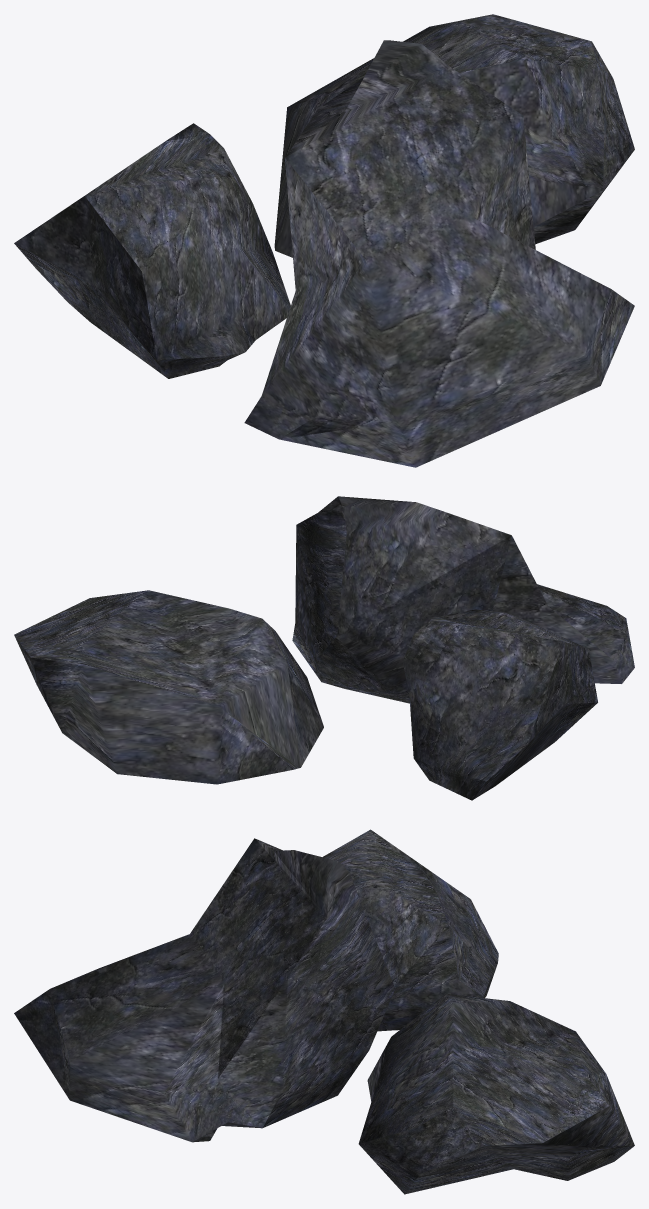
The model's file is pir_m_prp_vol_rockGroup_g.fbx.
3 renders of one model, top to bottom at view 1: azimuth 30°, elevation 25°; view 2: azimuth 150°, elevation 25°; view 3: azimuth 270°, elevation 25°, orthographic. The views are drawn at different scales.
Visible parts, largest first — view 1: rock_03.001, rock_01.001, rock_02.001; view 2: rock_02.001, rock_03.001, rock_01.001; view 3: rock_03.001, rock_02.001, rock_01.001.
Boxes of the visible parts, x1=… form: rock_03.001: x1=244, y1=40, x2=634, y2=467; rock_01.001: x1=14, y1=123, x2=290, y2=378; rock_02.001: x1=274, y1=14, x2=634, y2=257; rock_02.001: x1=14, y1=590, x2=323, y2=784; rock_03.001: x1=292, y1=496, x2=634, y2=703; rock_01.001: x1=402, y1=609, x2=597, y2=800; rock_03.001: x1=14, y1=838, x2=395, y2=1142; rock_02.001: x1=358, y1=993, x2=634, y2=1194; rock_01.001: x1=322, y1=829, x2=498, y2=1031.
Bounding box in the file's own units: 1230 × 519 × 1235.
Materials: 1 (1 with a texture image).
